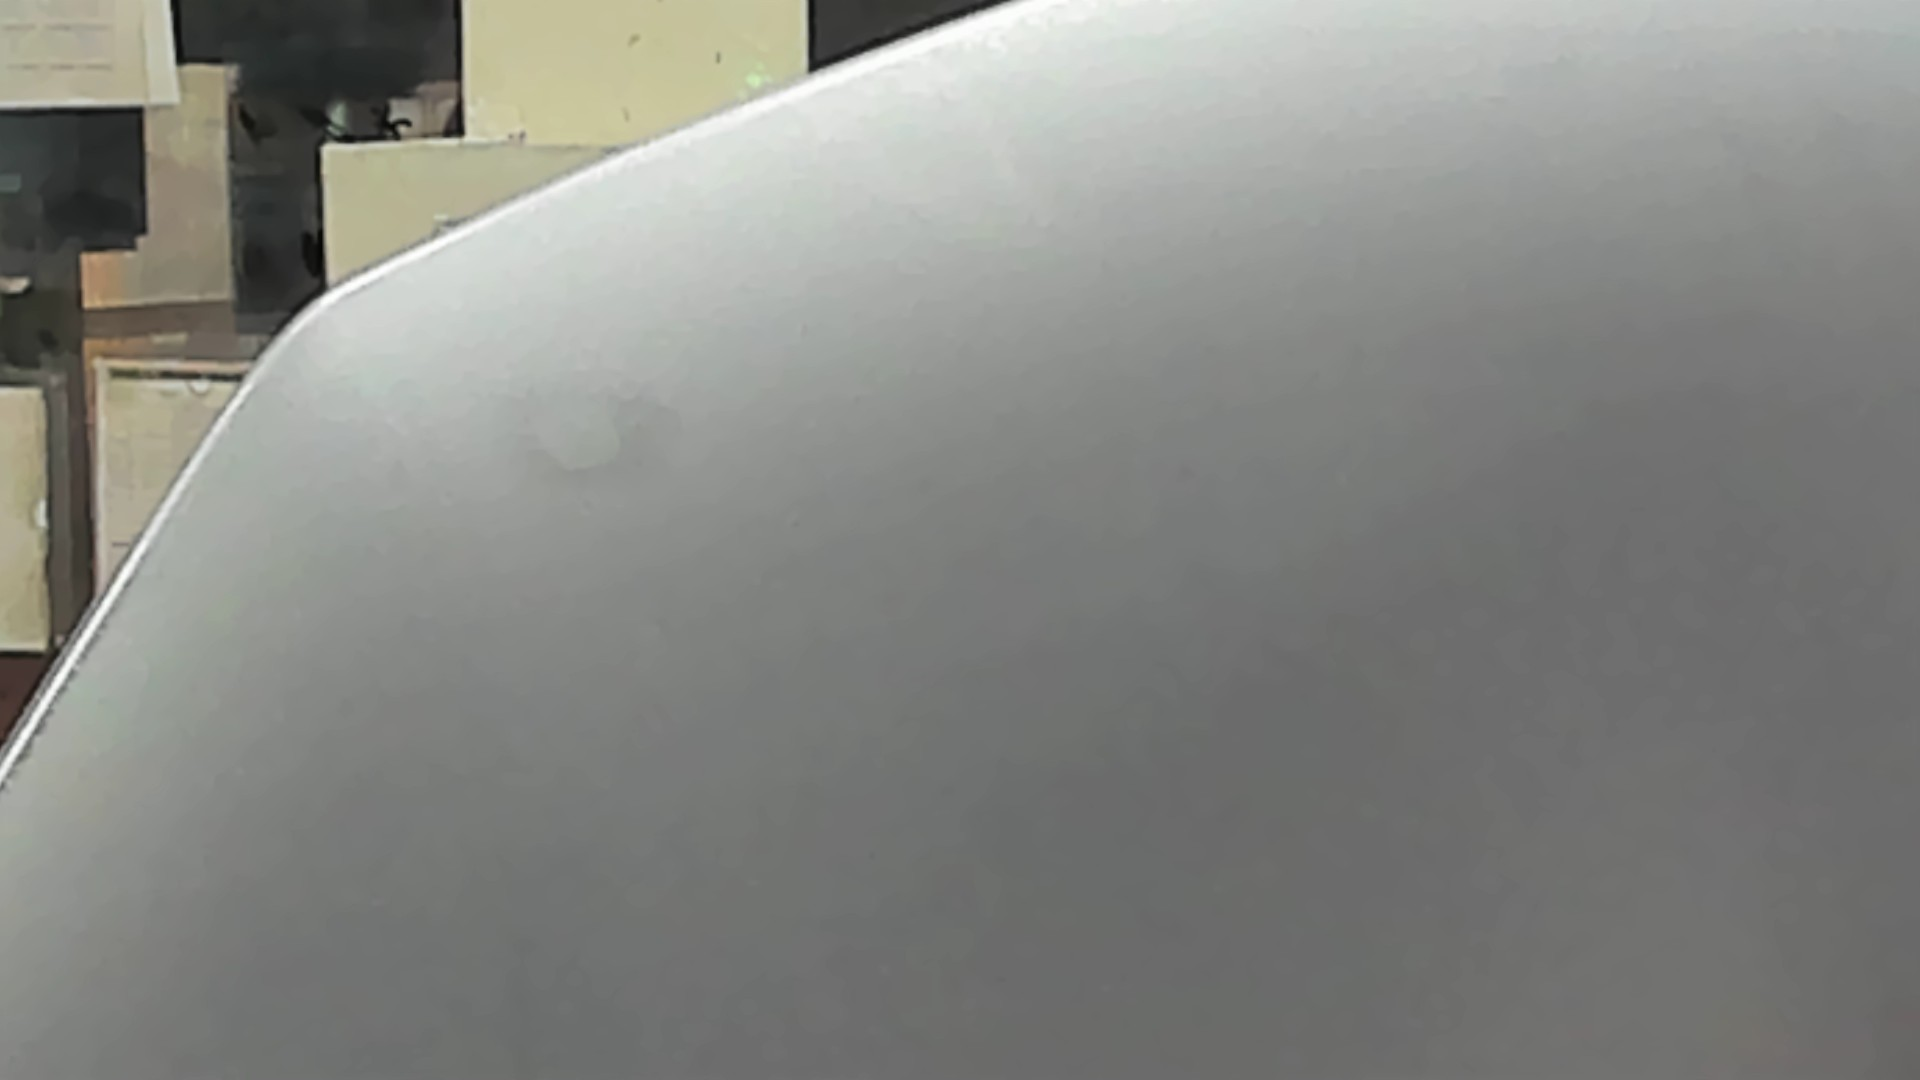capo: (688, 153, 1920, 1080)
